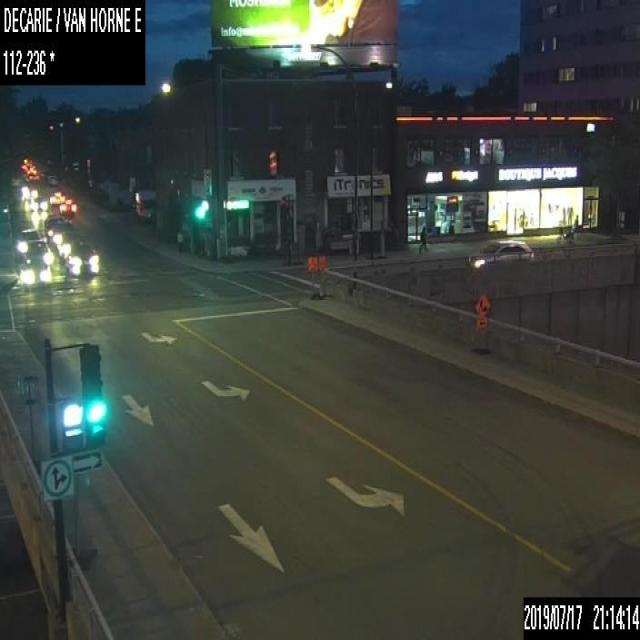construction: (17, 371, 39, 476), (471, 293, 490, 354), (306, 253, 316, 300), (318, 253, 328, 297)
pedestrian: (418, 224, 427, 253)
vehicle: (465, 238, 533, 270), (20, 253, 50, 289), (65, 242, 99, 273), (57, 229, 83, 260), (24, 239, 52, 266), (16, 227, 41, 256), (51, 220, 74, 247), (45, 216, 65, 240), (59, 196, 76, 216), (22, 182, 38, 198), (32, 194, 46, 210), (49, 190, 64, 204), (48, 173, 58, 185)
